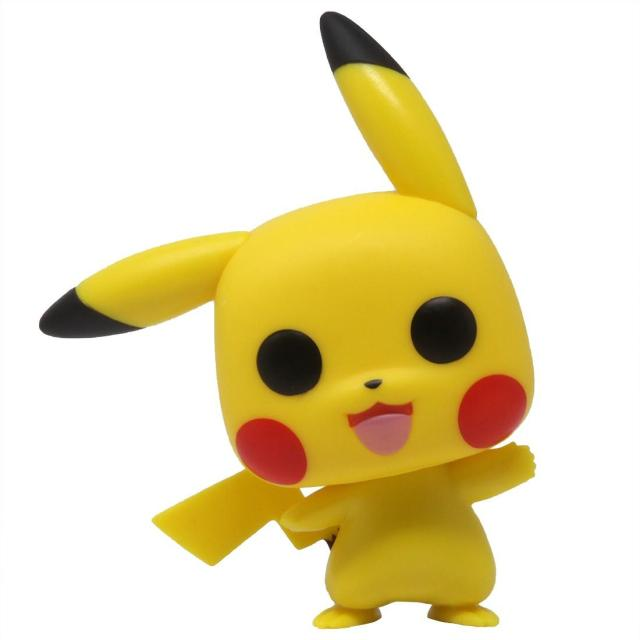pikachu: (40, 11, 535, 627)
